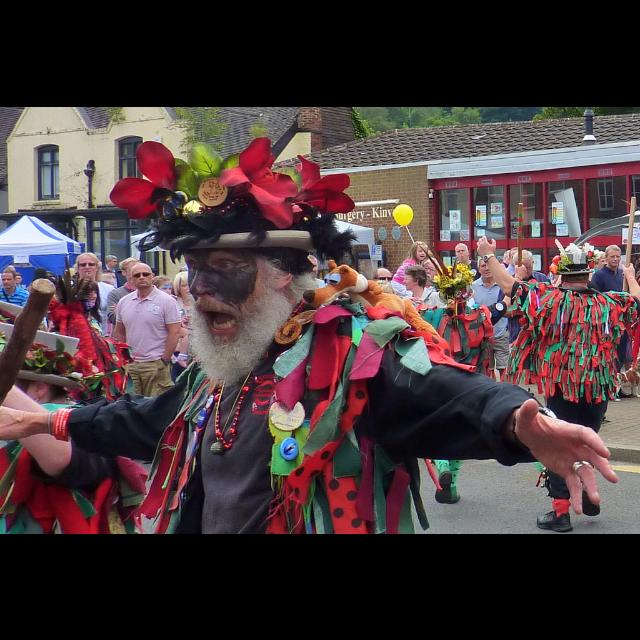Flower: (216, 136, 294, 230), (108, 140, 186, 230), (300, 154, 354, 218), (432, 258, 474, 290)
